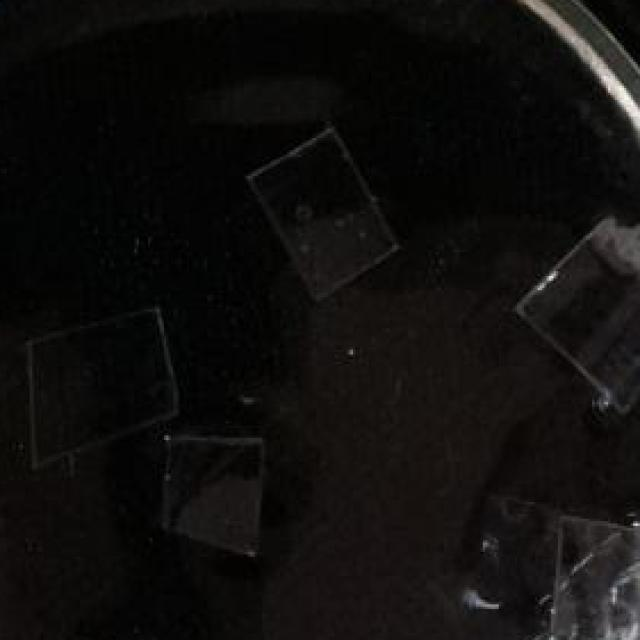Microplastic: (239, 112, 399, 304), (508, 202, 640, 421), (14, 304, 180, 468), (160, 428, 276, 562), (546, 504, 640, 639)
